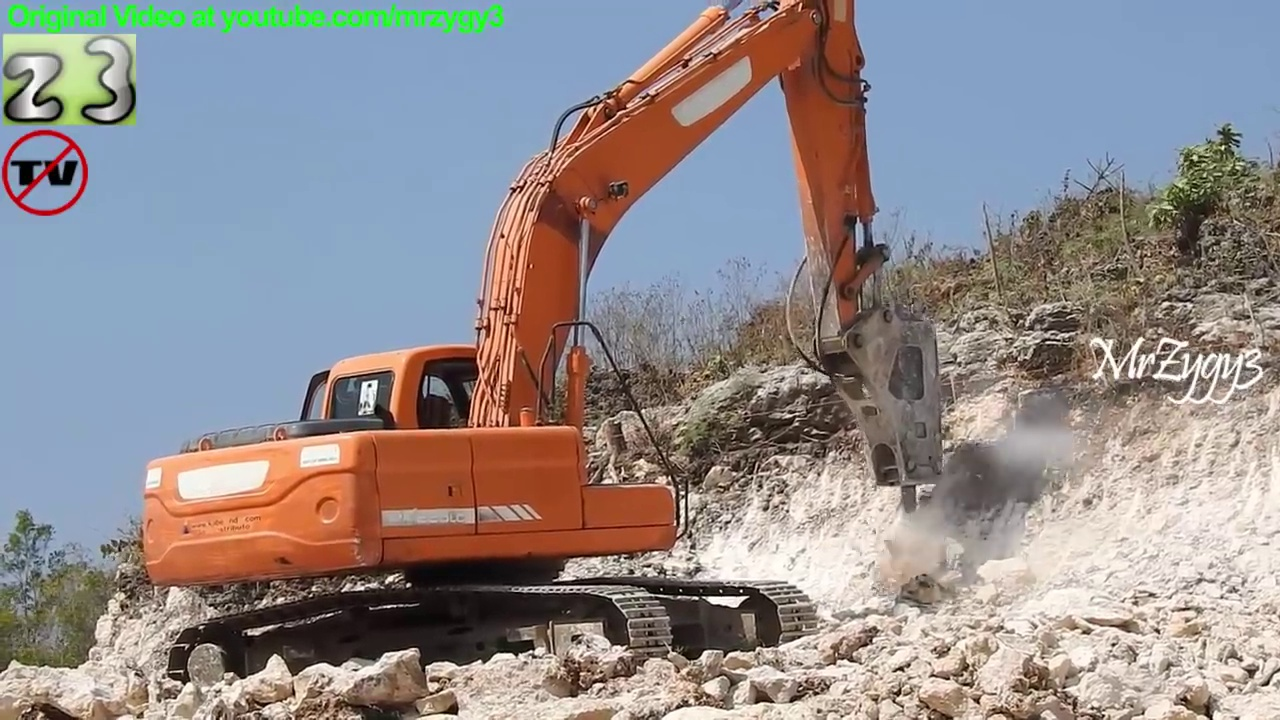excavator breaker: (130, 1, 953, 690)
